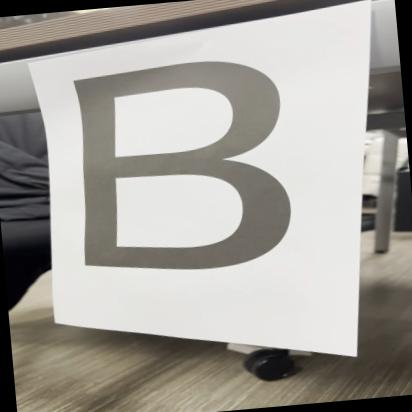seat: (49, 40, 309, 294)
